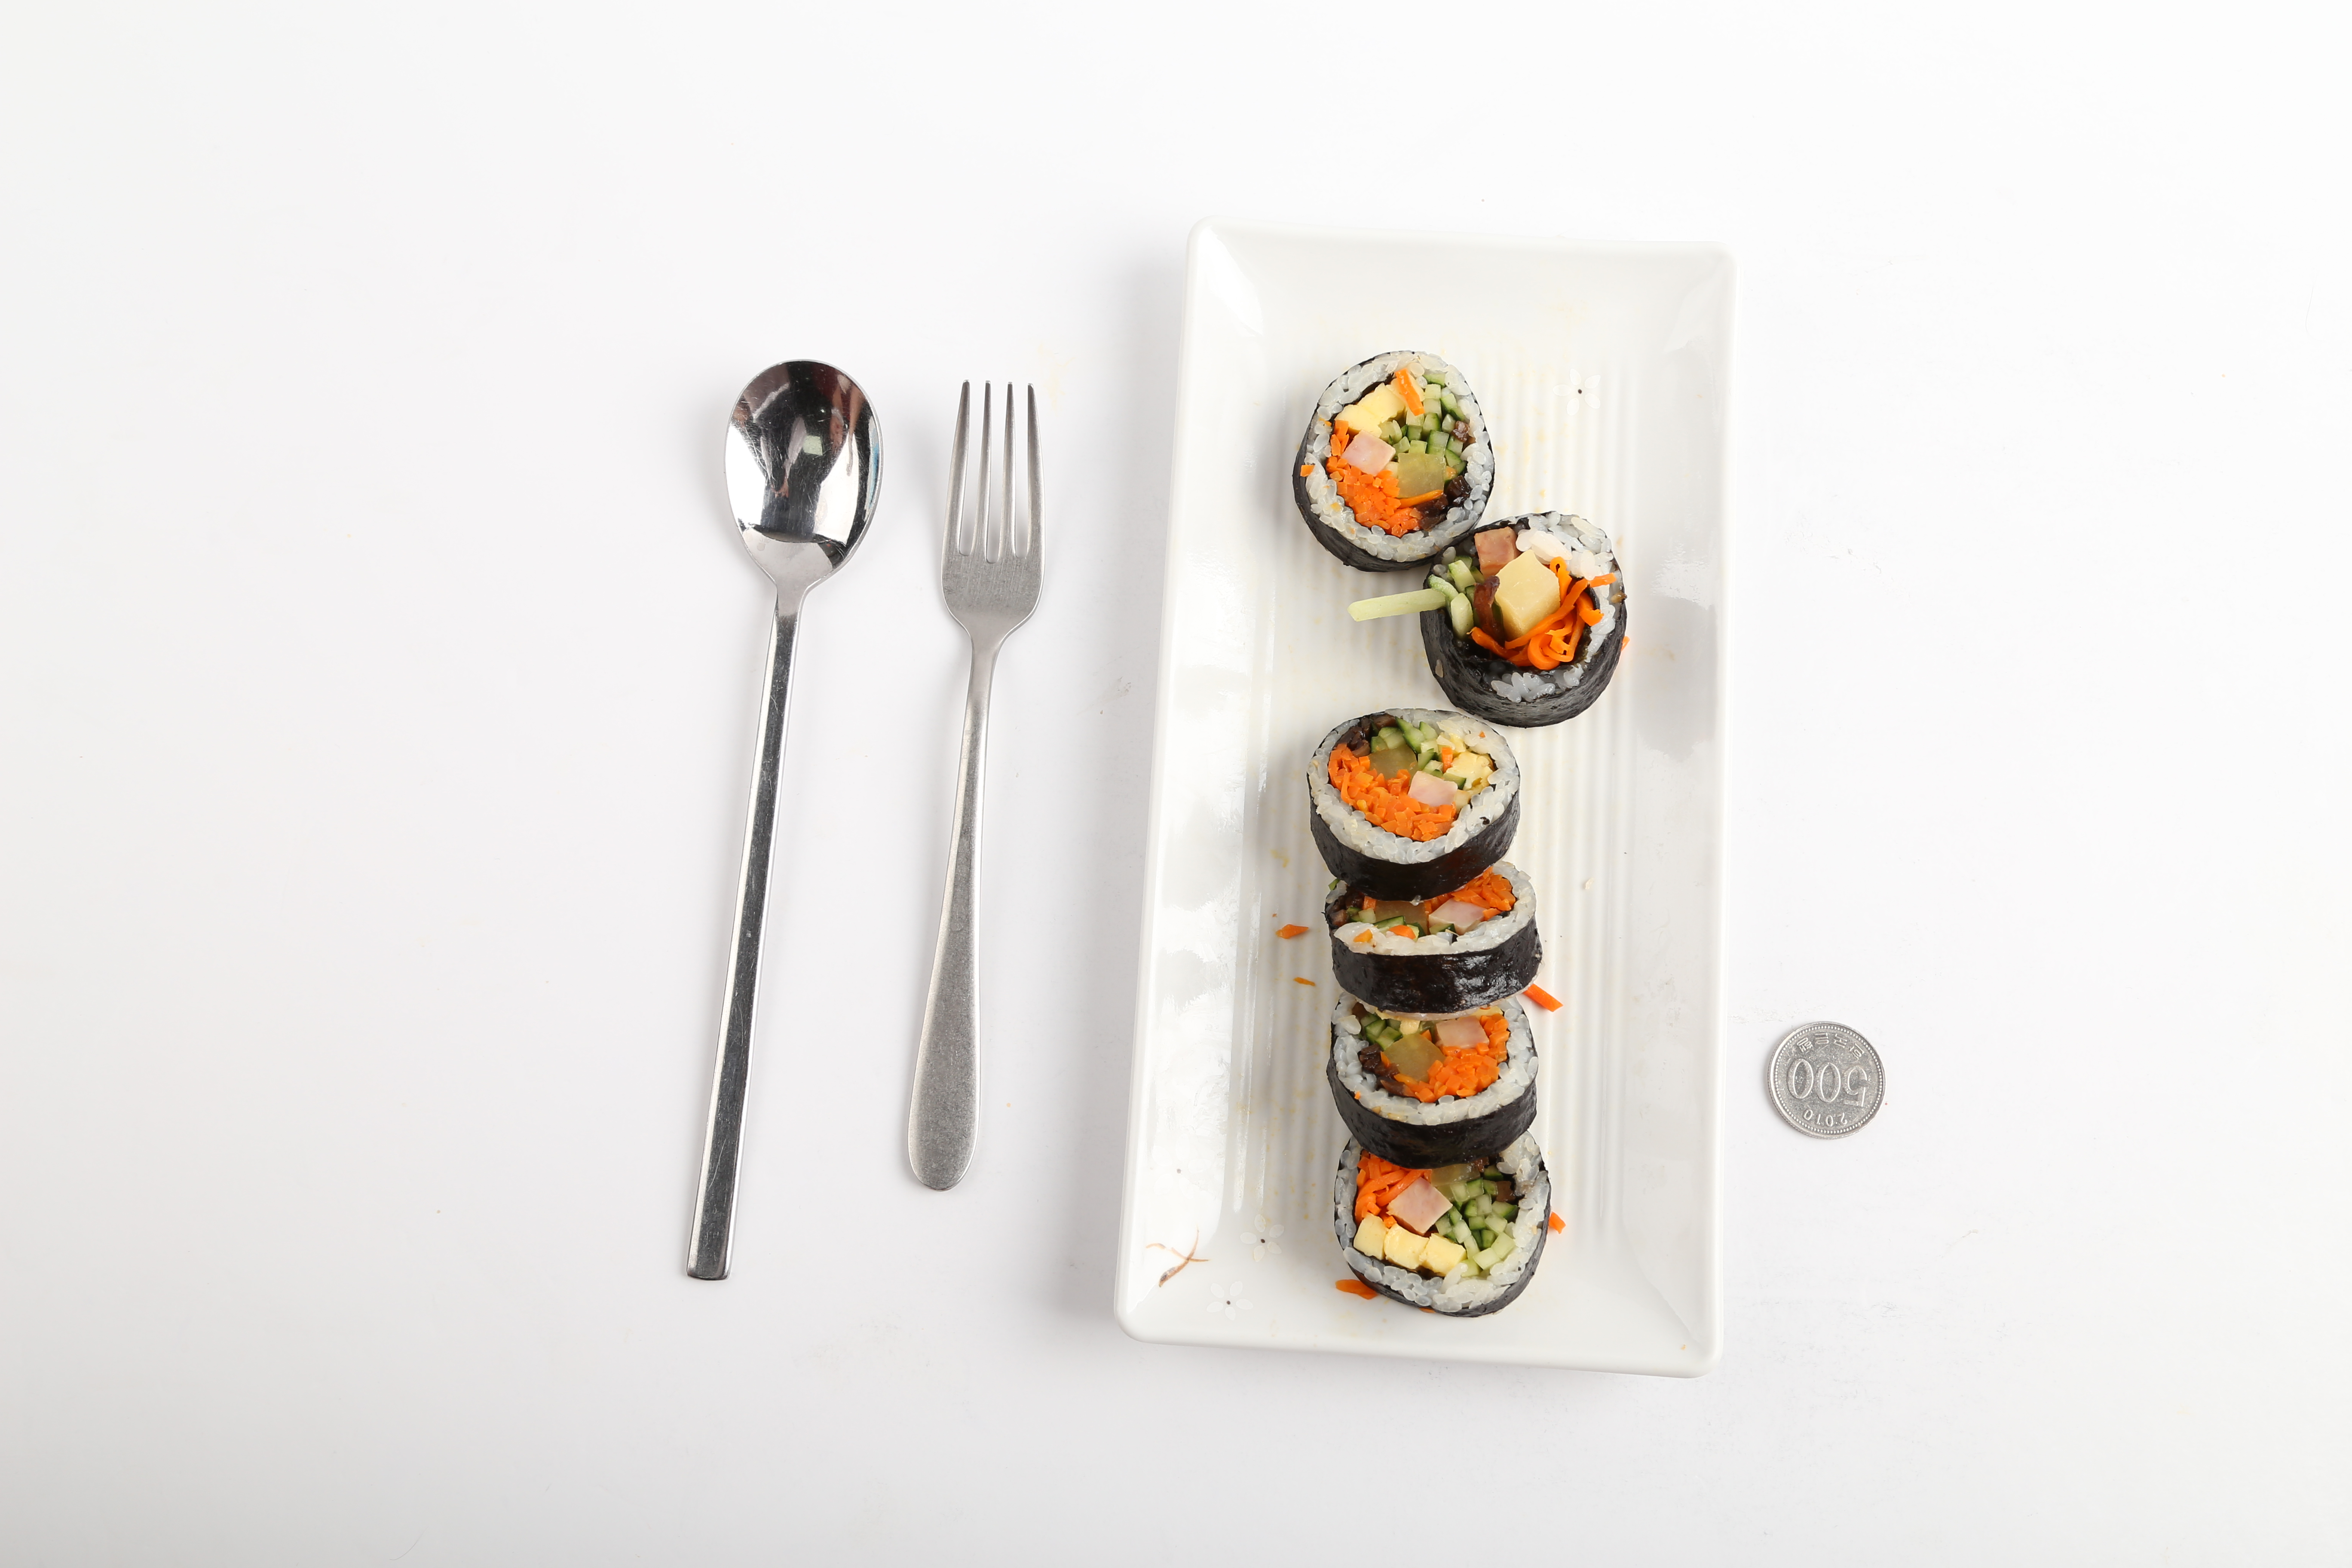dish: (1120, 215, 1739, 1375)
ref_coin: (1764, 1018, 1886, 1144)
ref_fork: (933, 371, 1050, 681)
ref_spoon: (719, 352, 885, 630)
김밥: (1283, 348, 1624, 1318)
